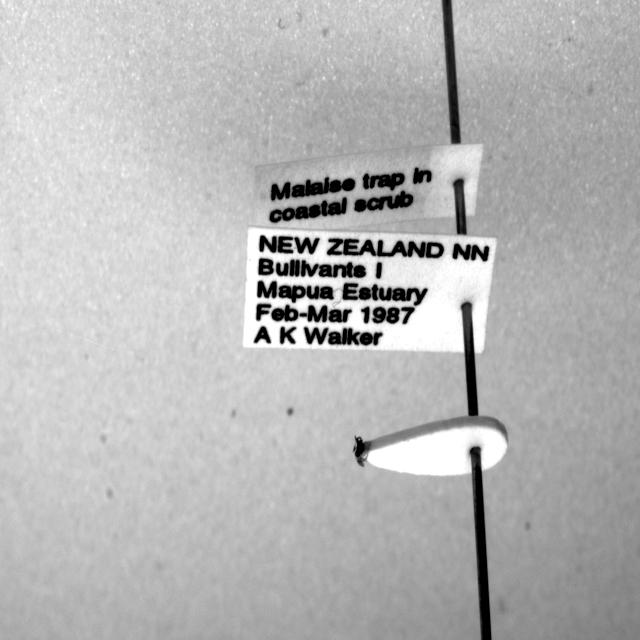typed_label: (244, 227, 496, 352), (252, 144, 484, 229)
